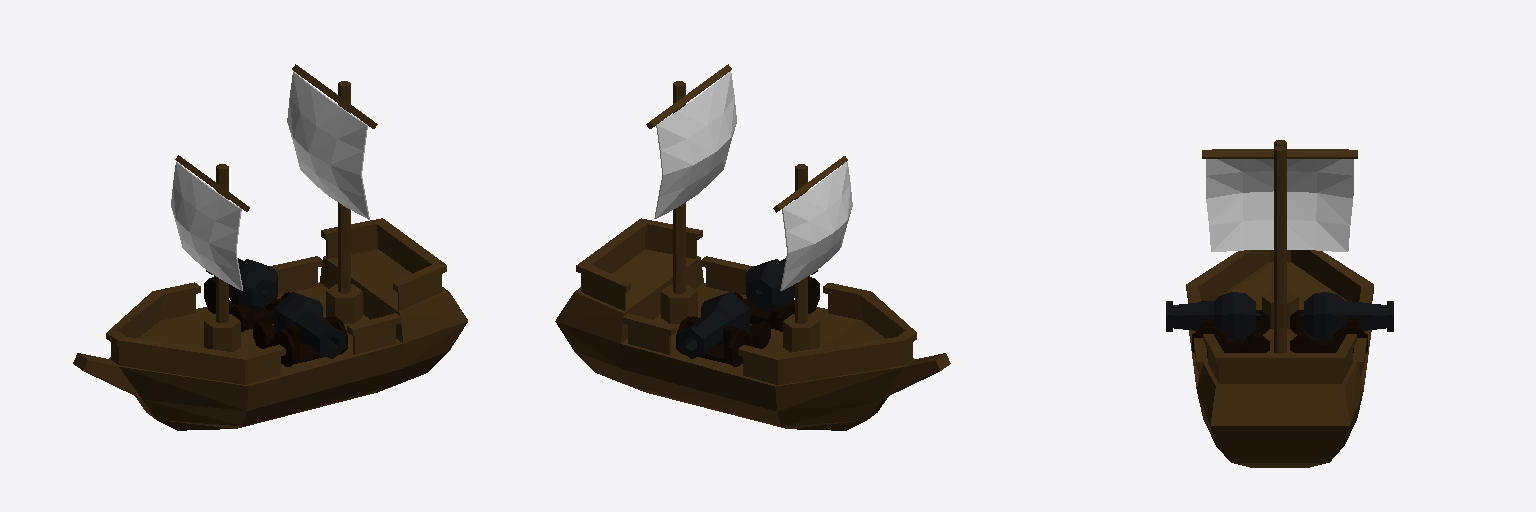
Rendered from ladja_majhna.obj.
3 renders of one model, left to right at view 1: azimuth 30°, elevation 25°; view 2: azimuth 150°, elevation 25°; view 3: azimuth 270°, elevation 25°, orthographic.
Parts seen in each view (by area): view 1: Sphere, Plane.001, Plane, Cylinder, Cylinder.008, Cylinder.005, Cylinder.013, Cube_Cube.001, Cylinder.007, Cube.001_Cube.002, Cylinder.006, Cylinder.002; view 2: Sphere, Plane.001, Plane, Cylinder.013, Cylinder.008, Cylinder.005, Cylinder, Cube.001_Cube.002, Cylinder.007, Cube_Cube.001, Cylinder.012, Cylinder.006; view 3: Sphere, Plane.001, Cylinder.013, Cylinder, Cylinder.008, Cylinder.007, Cylinder.005.
Boxes of the visible parts, <box> form: Sphere: <box>73,218,467,430</box>; Plane.001: <box>287,71,369,219</box>; Plane: <box>171,162,242,290</box>; Cylinder: <box>274,292,345,358</box>; Cylinder.008: <box>326,81,362,323</box>; Cylinder.005: <box>204,164,240,351</box>; Cylinder.013: <box>206,258,277,312</box>; Cube_Cube.001: <box>266,316,337,364</box>; Cylinder.007: <box>292,64,377,128</box>; Cube.001_Cube.002: <box>214,275,284,329</box>; Cylinder.006: <box>175,155,249,211</box>; Cylinder.002: <box>274,329,296,366</box>; Sphere: <box>555,218,950,430</box>; Plane.001: <box>654,71,736,218</box>; Plane: <box>780,162,852,290</box>; Cylinder.013: <box>678,292,749,358</box>; Cylinder.008: <box>661,81,697,323</box>; Cylinder.005: <box>783,164,819,352</box>; Cylinder: <box>746,258,817,312</box>; Cube.001_Cube.002: <box>687,316,757,364</box>; Cylinder.007: <box>646,64,731,128</box>; Cube_Cube.001: <box>739,275,809,329</box>; Cylinder.012: <box>727,329,749,366</box>; Cylinder.006: <box>773,156,847,212</box>; Sphere: <box>1186,250,1373,467</box>; Plane.001: <box>1206,159,1353,251</box>; Cylinder.013: <box>1299,292,1393,340</box>; Cylinder: <box>1166,292,1260,340</box>; Cylinder.008: <box>1267,146,1293,352</box>; Cylinder.007: <box>1202,150,1357,158</box>; Cylinder.005: <box>1262,140,1298,328</box>.
Size of the model in its own units: 5.07 by 4.11 by 2.82.